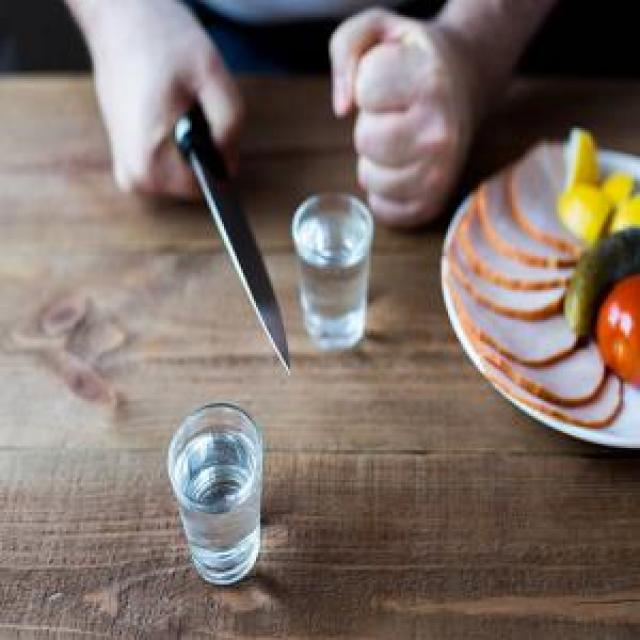knife: (171, 98, 291, 378)
